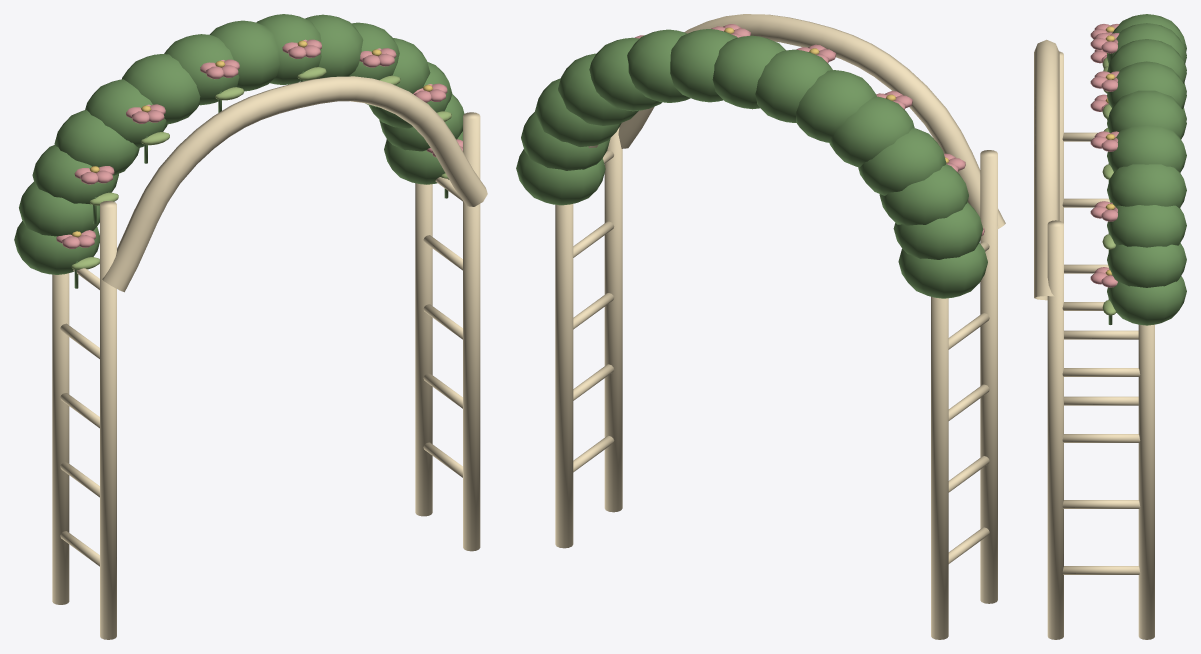
Rendered from archway.glb.
3 renders of one model, left to right at view 1: azimuth 30°, elevation 25°; view 2: azimuth 150°, elevation 25°; view 3: azimuth 270°, elevation 25°, orthographic. The views are drawn at different scales.
Parts seen in each view (by area): view 1: archway_World_Mesh; view 2: archway_World_Mesh; view 3: archway_World_Mesh.
Boxes of the visible parts, box(x1,y1,x2,y2) form: archway_World_Mesh: box(14, 14, 487, 639); archway_World_Mesh: box(516, 14, 1005, 639); archway_World_Mesh: box(1034, 14, 1186, 639).
Bounding box in the file's own units: 2.7 × 3.08 × 0.84.
